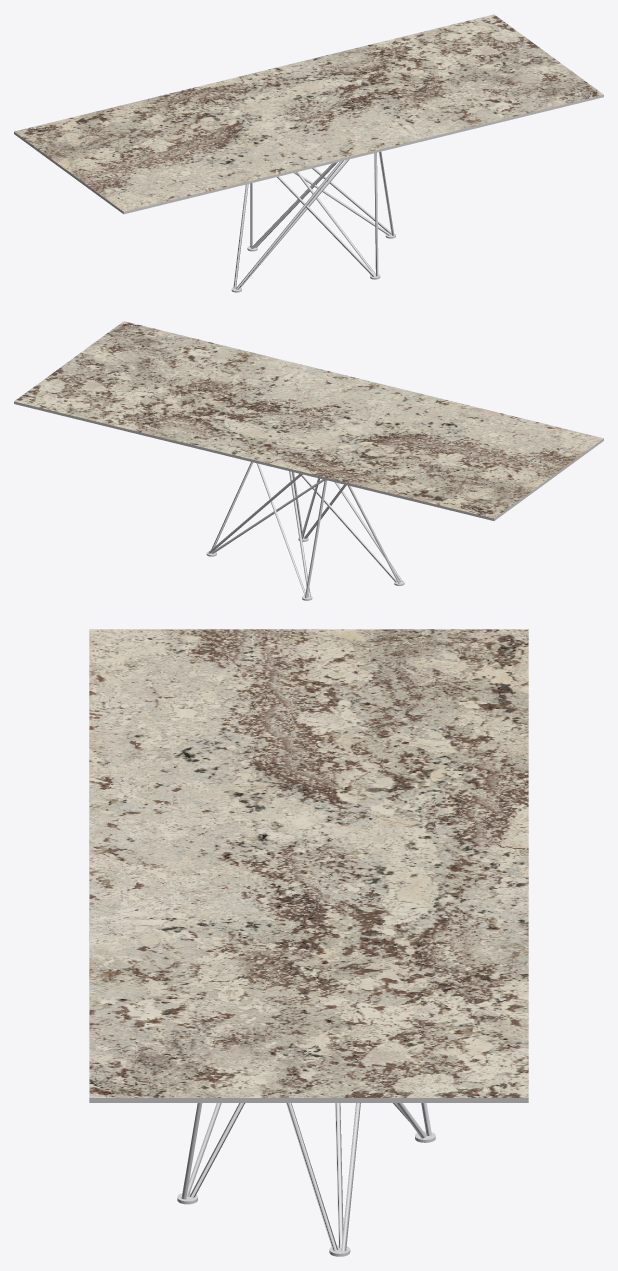
File: Stella20.glb
The picture shows the model from 3 angles, top to bottom: view 1: azimuth 30°, elevation 25°; view 2: azimuth 150°, elevation 25°; view 3: azimuth 270°, elevation 25°; orthographic projection. The views are drawn at different scales.
Parts seen in each view (by area): view 1: Cube.001, Plane.018; view 2: Cube.001, Plane.018; view 3: Cube.001, Plane.018.
Boxes of the visible parts, x1,y1,x2,y2 form: Cube.001: [14, 14, 603, 214]; Plane.018: [233, 151, 394, 289]; Cube.001: [14, 321, 603, 520]; Plane.018: [208, 462, 402, 598]; Cube.001: [89, 629, 528, 1102]; Plane.018: [181, 1103, 431, 1251].
Bounding box in the file's own units: 2.4 × 0.7201 × 0.95.
4 materials, 3 textured.
